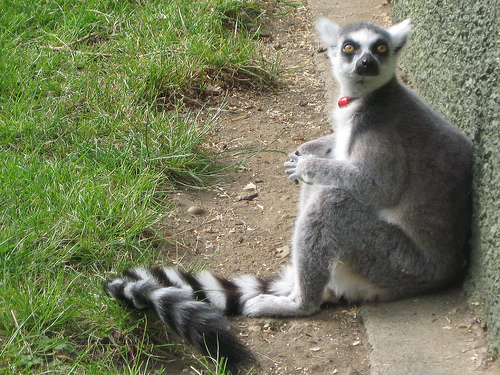cat: (99, 15, 472, 374)
